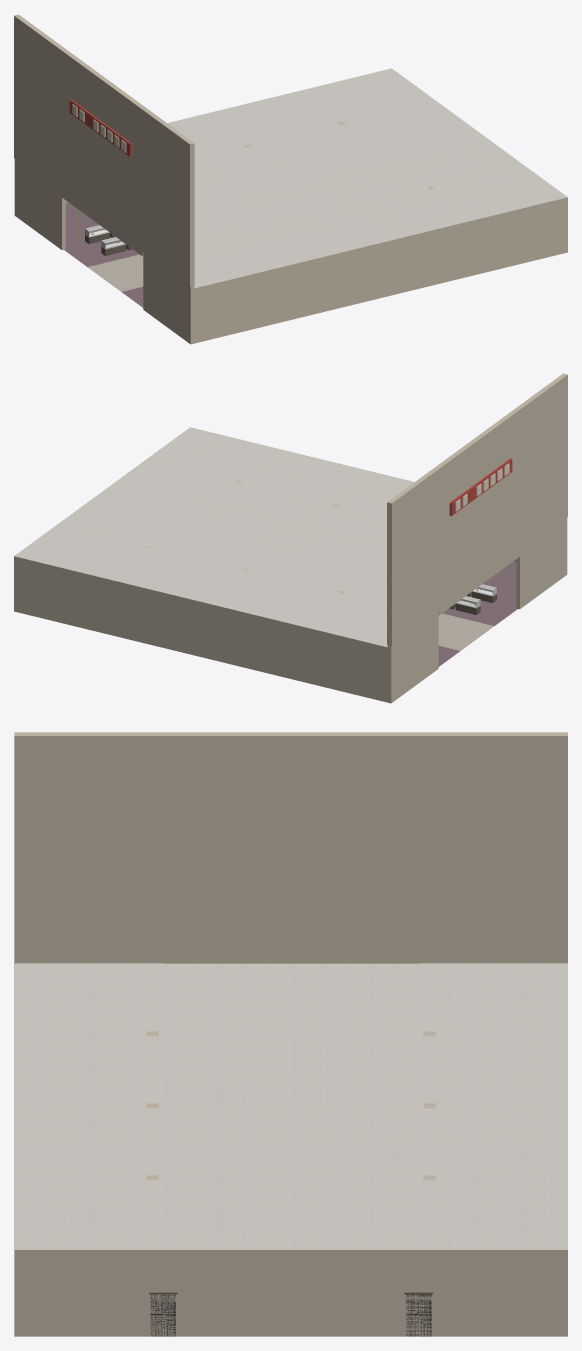
The model's file is department_store.glb.
The picture shows the model from 3 angles, top to bottom: view 1: azimuth 30°, elevation 25°; view 2: azimuth 150°, elevation 25°; view 3: azimuth 270°, elevation 25°; orthographic projection. The views are drawn at different scales.
Parts seen in each view (by area): view 1: department_store; view 2: department_store; view 3: department_store.
Part boxes in pixels (x1,y1,x2,y2): department_store: [14, 14, 567, 344]; department_store: [14, 373, 567, 703]; department_store: [14, 732, 567, 1336].
Size of what is drawn, in the model's own units: 32.47 by 16.3 by 26.01.
